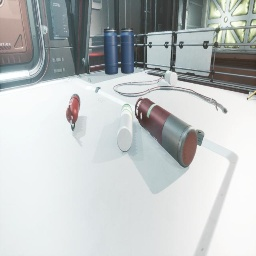0: (117, 104, 132, 152), (164, 70, 178, 86)
FireExtinguisher ]: (66, 94, 81, 132)
NitrogenTank ,: (135, 98, 197, 168)
SafetySwitchPanel ,: (92, 0, 102, 10)
